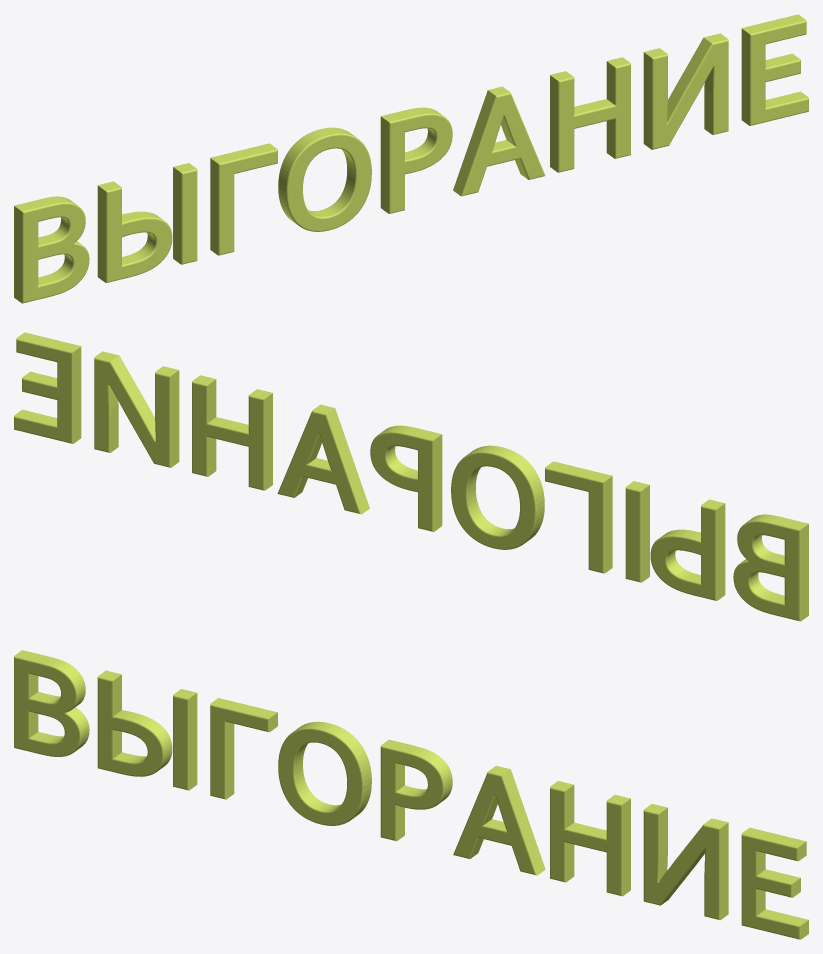
Rendered from BURNOUT ready2.glb.
3 views of the same model, one above another, from view 1: azimuth 30°, elevation 25°; view 2: azimuth 150°, elevation 25°; view 3: azimuth 330°, elevation 25° (orthographic).
Visible parts, largest first — view 1: Ы, И, В, О, Н, Е, А, Р, Г; view 2: Ы, И, В, О, Н, Е, А, Р, Г; view 3: Ы, В, И, О, Н, Е, А, Р, Г.
Part boxes in pixels (left/top/right/bottom): Ы: left=97, top=163, right=197, bottom=282; И: left=643, top=33, right=728, bottom=149; В: left=14, top=196, right=89, bottom=303; О: left=278, top=127, right=371, bottom=231; Н: left=550, top=57, right=630, bottom=172; Е: left=741, top=14, right=808, bottom=125; А: left=453, top=86, right=545, bottom=196; Р: left=380, top=107, right=452, bottom=213; Г: left=210, top=143, right=277, bottom=255; Ы: left=625, top=481, right=725, bottom=600; И: left=94, top=351, right=179, bottom=467; В: left=733, top=514, right=808, bottom=621; О: left=451, top=445, right=544, bottom=549; Н: left=192, top=375, right=272, bottom=490; Е: left=14, top=332, right=81, bottom=443; А: left=277, top=404, right=369, bottom=514; Р: left=370, top=425, right=442, bottom=531; Г: left=545, top=461, right=612, bottom=573; Ы: left=97, top=670, right=197, bottom=790; В: left=14, top=650, right=89, bottom=756; И: left=643, top=804, right=728, bottom=920; О: left=278, top=721, right=371, bottom=825; Н: left=550, top=781, right=630, bottom=896; Е: left=741, top=827, right=808, bottom=939; А: left=453, top=765, right=545, bottom=875; Р: left=380, top=739, right=452, bottom=841; Г: left=210, top=698, right=277, bottom=799.
Size of the model in its own units: 11.71 by 1.36 by 0.2424.
